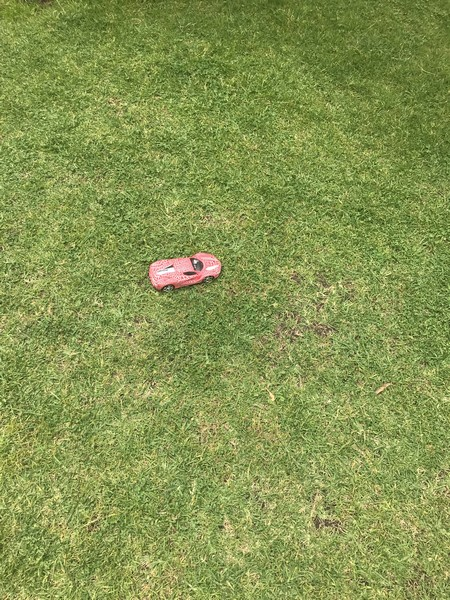RC: (147, 251, 222, 294)
